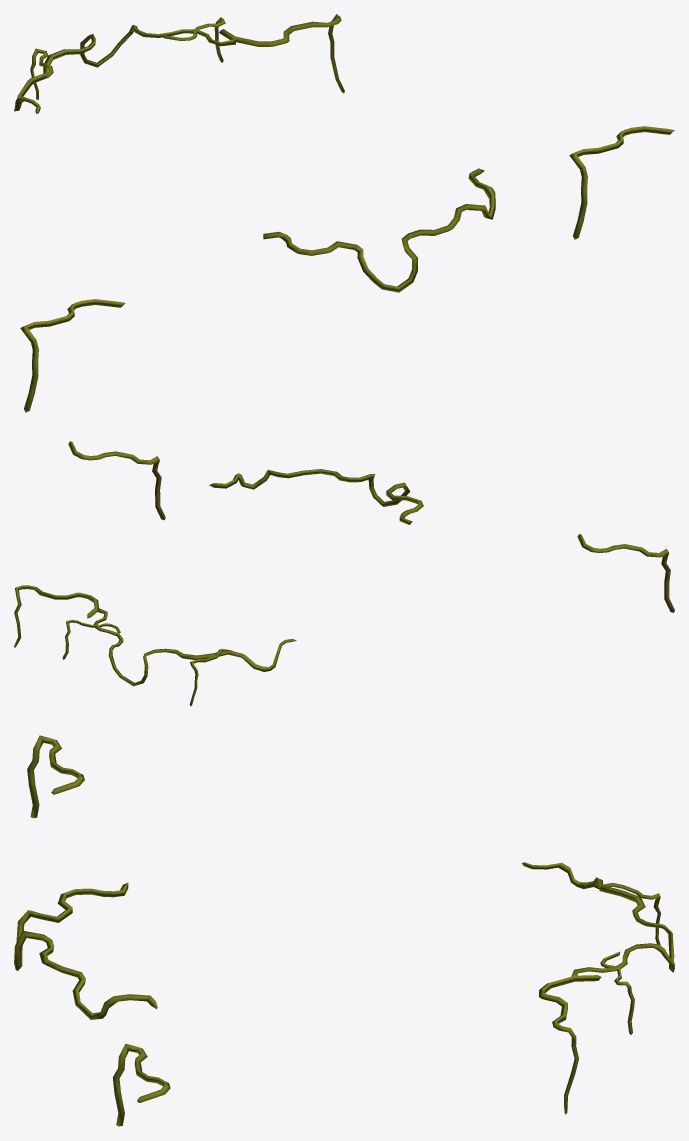
Rendered from Remains_vine_01.fbx.
3 views of the same model, one above another, from view 1: azimuth 30°, elevation 25°; view 2: azimuth 150°, elevation 25°; view 3: azimuth 270°, elevation 25° (orthographic). The views are drawn at different scales.
Visible parts, largest first — view 1: Remains_vine_01; view 2: Remains_vine_01; view 3: Remains_vine_01.
Boxes of the visible parts, x1,y1,x2,y2 form: Remains_vine_01: (14, 14, 674, 412); Remains_vine_01: (14, 441, 674, 706); Remains_vine_01: (14, 735, 674, 1126).
Bounding box in the file's own units: 1176 × 131 × 898.
